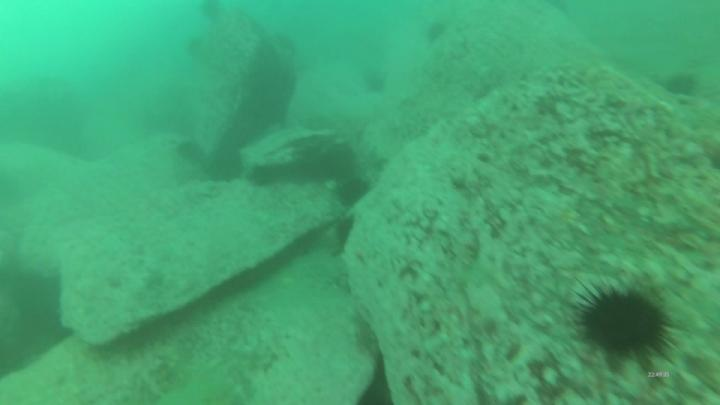echinus: (568, 275, 678, 370), (335, 179, 375, 210), (331, 214, 357, 257), (662, 73, 700, 101), (174, 137, 210, 165), (359, 68, 389, 98), (245, 163, 275, 191), (425, 20, 448, 49), (199, 1, 225, 26)
